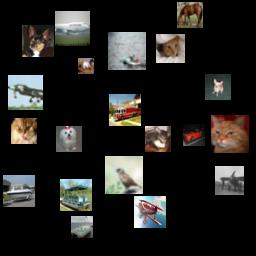airplane: (8, 75, 43, 110), (55, 11, 90, 46), (134, 196, 166, 228), (215, 166, 244, 195)
automobile: (183, 124, 205, 146)
bird: (105, 156, 143, 194)
cat: (211, 115, 249, 153), (156, 34, 185, 63), (145, 126, 171, 152), (11, 118, 37, 144)
dog: (22, 25, 54, 57), (56, 126, 82, 152), (205, 74, 231, 100)
ship: (108, 32, 146, 70), (60, 179, 92, 211), (3, 175, 35, 207), (71, 216, 93, 238)
truck: (109, 94, 141, 126)
